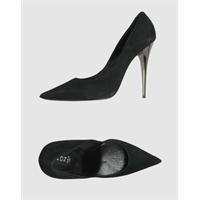shoe: (38, 11, 156, 100), (38, 139, 162, 178)
